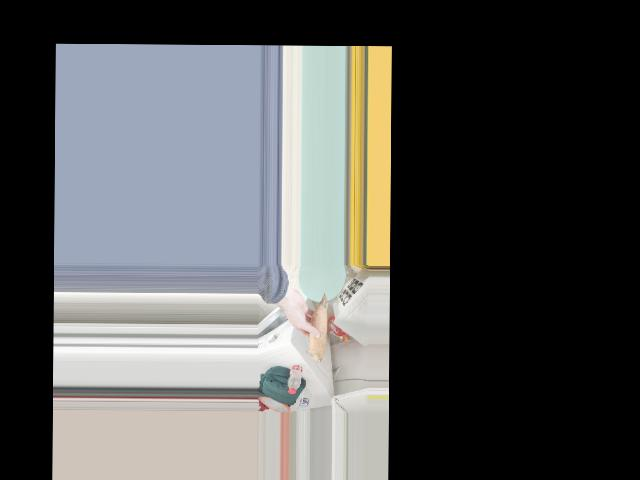sweet_potato: (304, 294, 327, 355)
